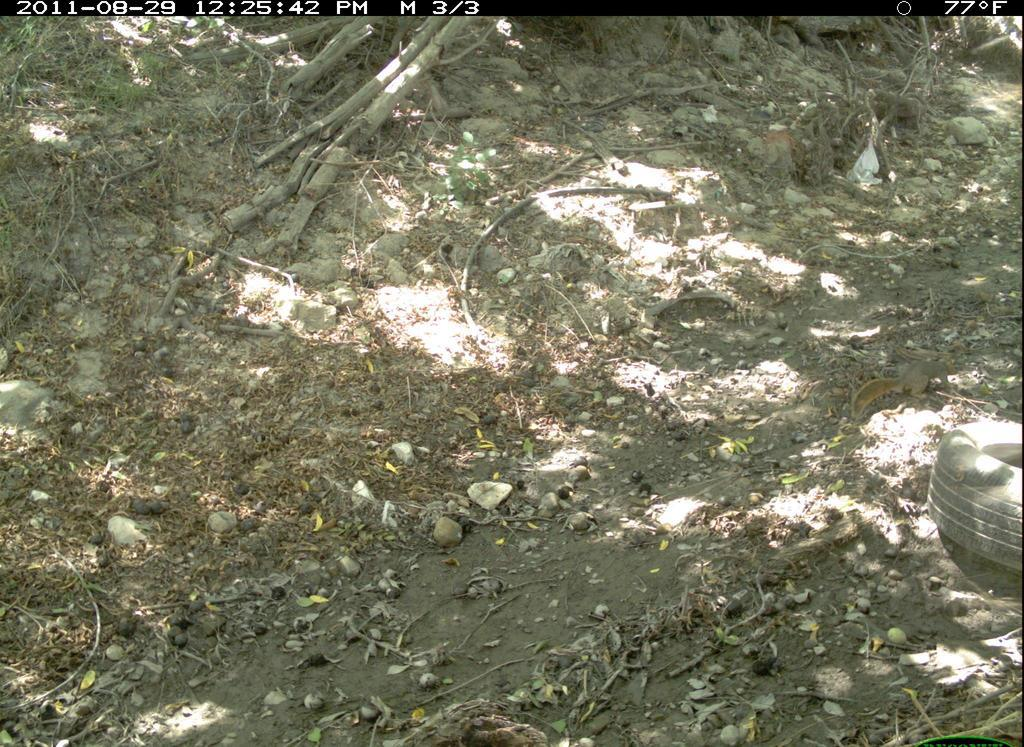squirrel: (847, 346, 956, 428)
